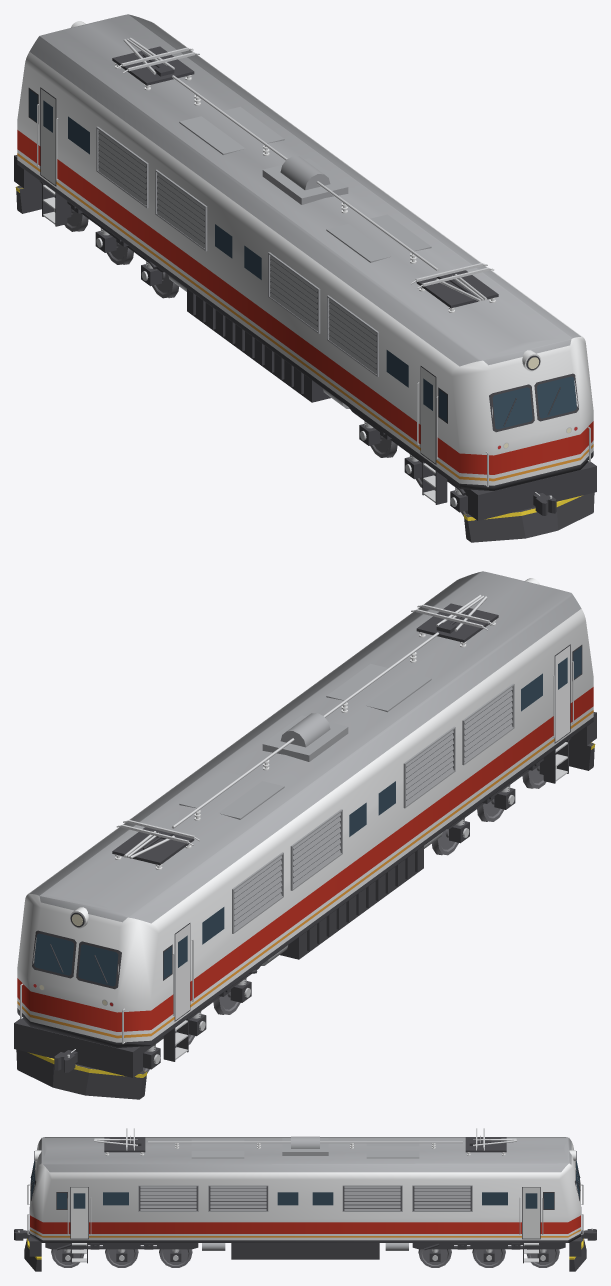
File: 2_close.fbx
3 renders of one model, top to bottom at view 1: azimuth 30°, elevation 25°; view 2: azimuth 150°, elevation 25°; view 3: azimuth 270°, elevation 25°, orthographic. The views are drawn at different scales.
Visible parts, largest first — view 1: 22_2_close; view 2: 22_2_close; view 3: 22_2_close.
Part boxes in pixels (<box>): 22_2_close: <box>14,14,596,542</box>; 22_2_close: <box>14,571,596,1099</box>; 22_2_close: <box>14,1128,596,1271</box>.
Bounding box in the file's own units: 3.23 × 4.57 × 20.
